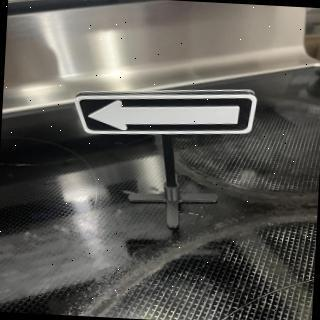sign_oneway_left: (73, 82, 259, 144)
